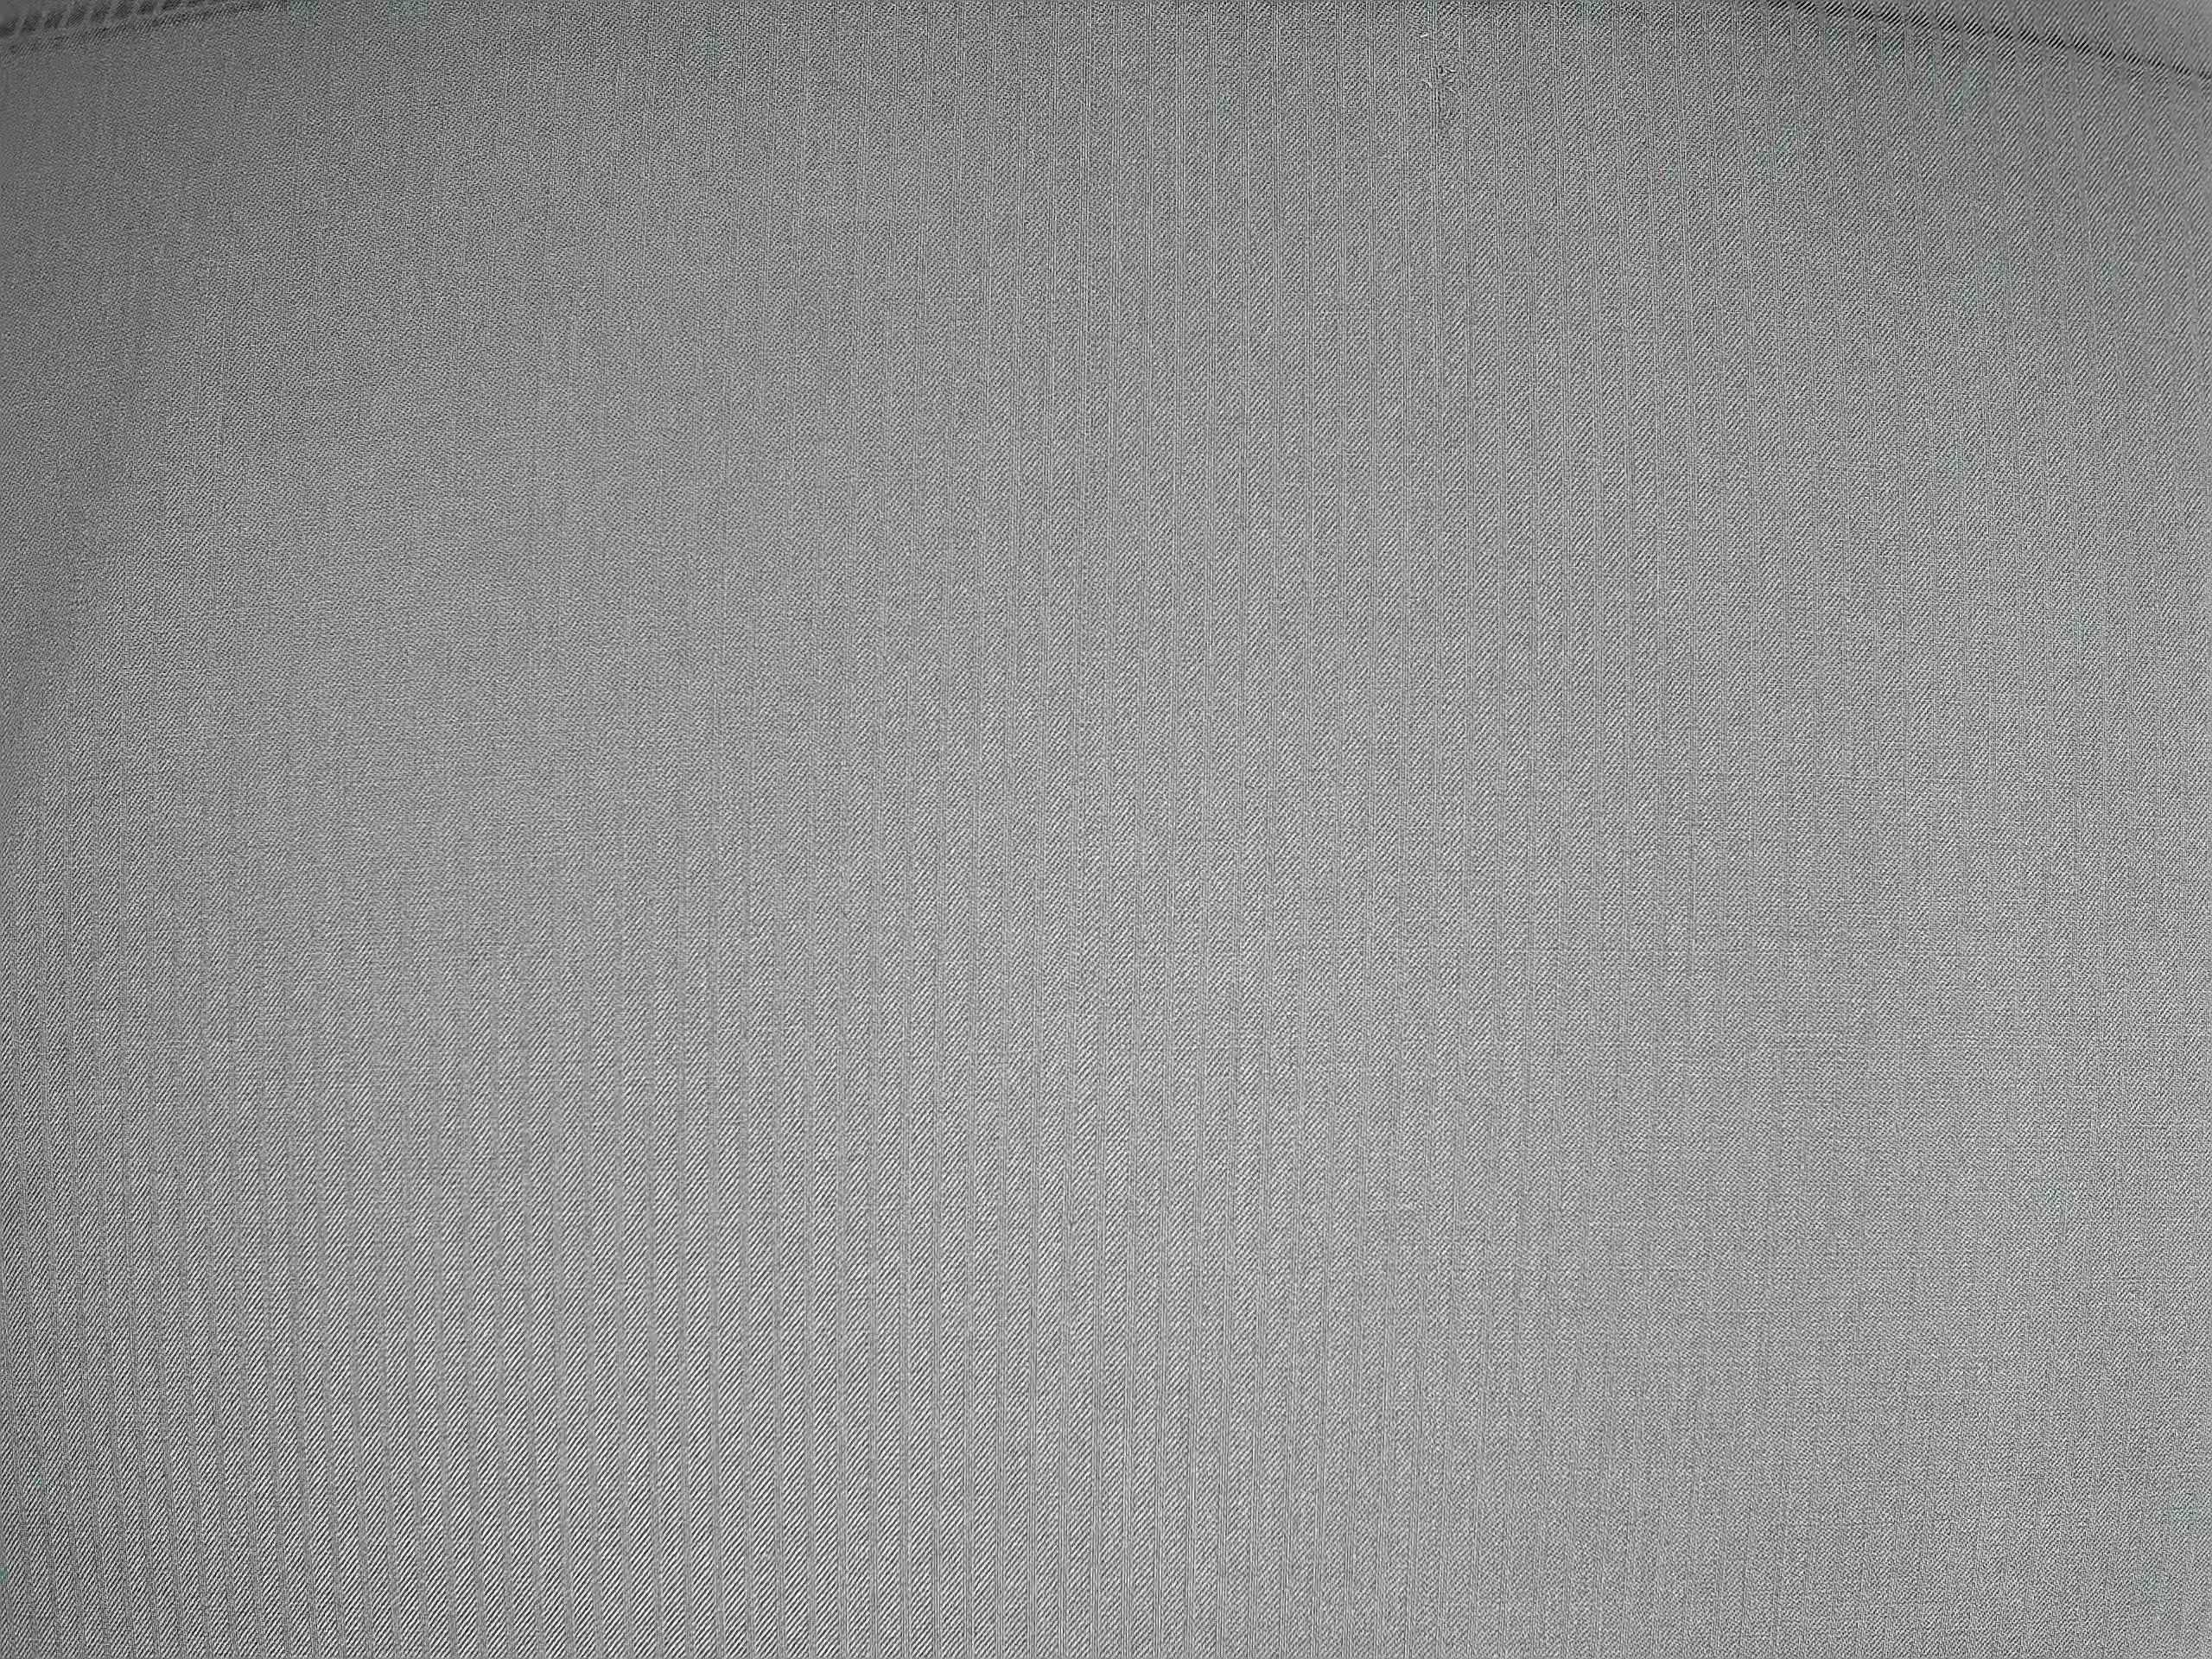jumps: (1414, 30, 1479, 200)
